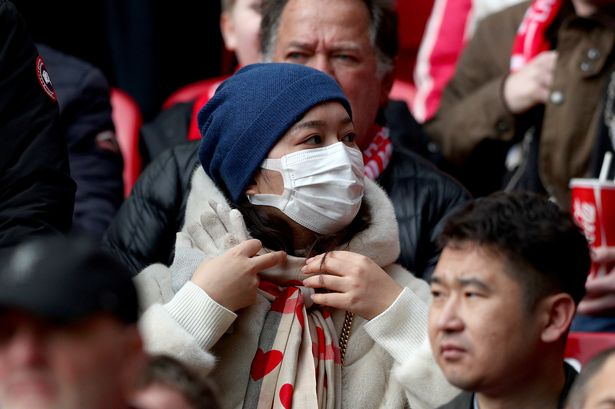with_mask: (290, 122, 356, 207)
without_mask: (434, 262, 509, 366)
